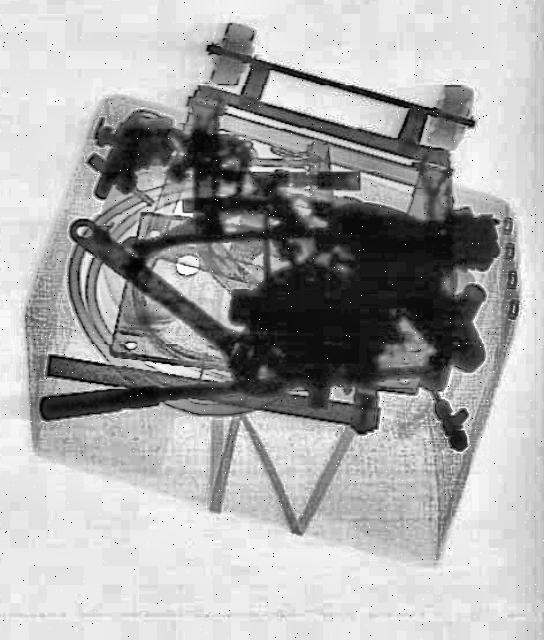Wrench: (56, 196, 307, 416)
